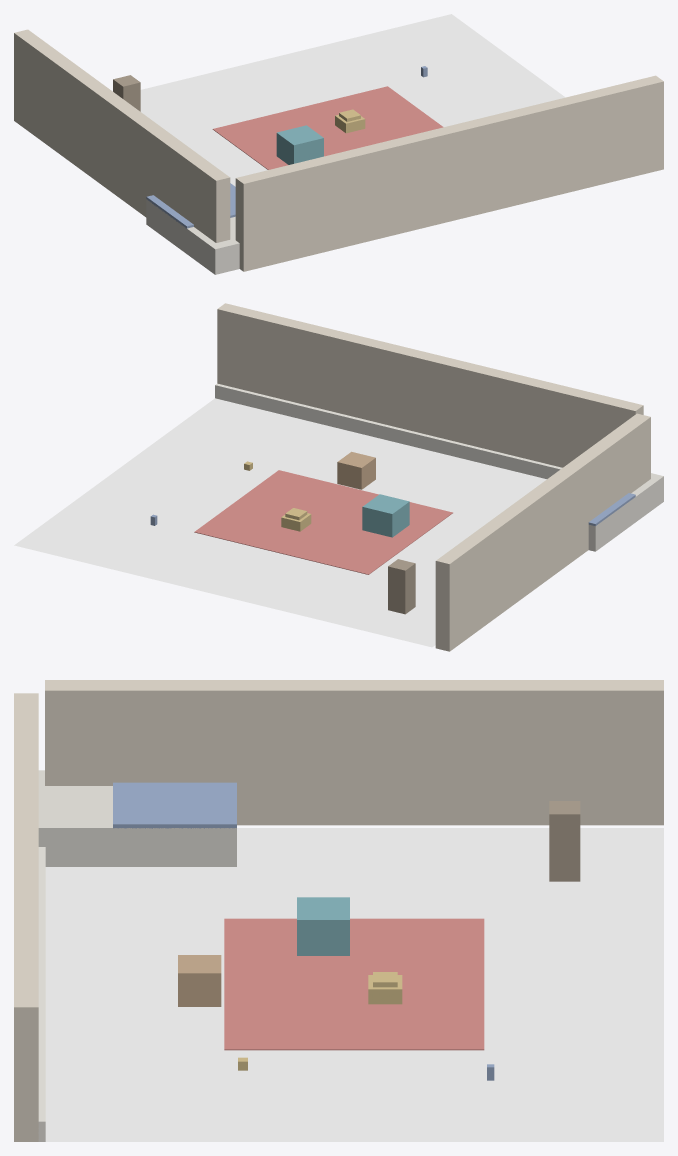
Rendered from arena.glb.
3 renders of one model, top to bottom at view 1: azimuth 30°, elevation 25°; view 2: azimuth 150°, elevation 25°; view 3: azimuth 270°, elevation 25°, orthographic. The views are drawn at different scales.
Parts seen in each view (by area): view 1: WallBack, Floor, WallLeft, Rug, BedBase, CoverBlock, DeskLeg, BedBlanket; view 2: Floor, WallBack, WallLeft, Rug, SkirtingBack, BedBase, CoverBlock, DeskLeg, StackObstacle; view 3: Floor, WallLeft, Rug, WallBack, BedBase, BedBlanket, CoverBlock, DeskLeg, SkirtingBack, StackObstacle, MusicBoxBase.
Boxes of the visible parts, <box> form: WallBack: <box>235,75,663,271</box>; Floor: <box>140,14,565,186</box>; WallLeft: <box>14,29,230,242</box>; Rug: <box>212,86,443,169</box>; BedBase: <box>146,199,239,274</box>; CoverBlock: <box>276,125,323,164</box>; DeskLeg: <box>113,75,140,111</box>; BedBlanket: <box>146,183,235,228</box>; Floor: <box>14,398,546,647</box>; WallBack: <box>217,303,643,467</box>; WallLeft: <box>435,413,650,651</box>; Rug: <box>194,470,452,574</box>; SkirtingBack: <box>215,383,562,478</box>; BedBase: <box>588,473,663,551</box>; CoverBlock: <box>362,494,409,537</box>; DeskLeg: <box>388,559,415,614</box>; StackObstacle: <box>337,451,375,489</box>; Floor: <box>45,828,663,1141</box>; WallLeft: <box>45,680,663,825</box>; Rug: <box>224,918,484,1050</box>; WallBack: <box>14,693,38,1141</box>; BedBase: <box>38,770,236,866</box>; BedBlanket: <box>113,782,236,828</box>; CoverBlock: <box>297,897,349,955</box>; DeskLeg: <box>549,801,580,881</box>; SkirtingBack: <box>38,847,45,1141</box>; StackObstacle: <box>178,955,221,1006</box>; MusicBoxBase: <box>368,975,402,1004</box>.
Bounding box in the file's own units: 12.7 × 2.52 × 10.5.
